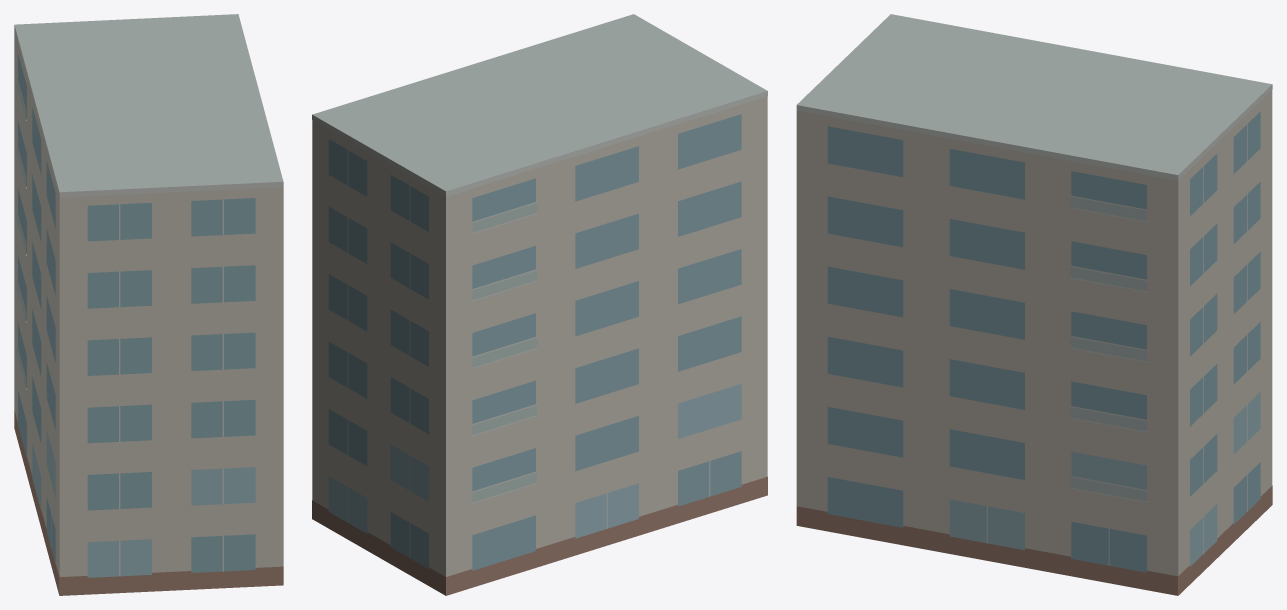
The model's file is survey-upis-32969720.glb.
3 renders of one model, left to right at view 1: azimuth 30°, elevation 25°; view 2: azimuth 150°, elevation 25°; view 3: azimuth 270°, elevation 25°, orthographic. The views are drawn at different scales.
Visible parts, largest first — view 1: survey-upis-32969720.tmp; view 2: survey-upis-32969720.tmp; view 3: survey-upis-32969720.tmp.
Part boxes in pixels (x1,y1,x2,y2): survey-upis-32969720.tmp: (14,14,283,595); survey-upis-32969720.tmp: (312,14,767,595); survey-upis-32969720.tmp: (796,14,1272,595).
Size of the model in its own units: 15.29 by 18.6 by 19.08.
